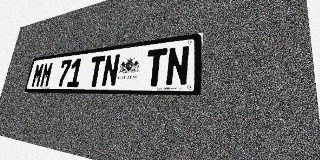1: (67, 58, 84, 87)
7: (56, 59, 72, 87)
M: (39, 62, 54, 87), (31, 63, 45, 87)
N: (165, 45, 190, 86), (101, 53, 121, 87)
T: (144, 48, 167, 86), (87, 55, 105, 87)
